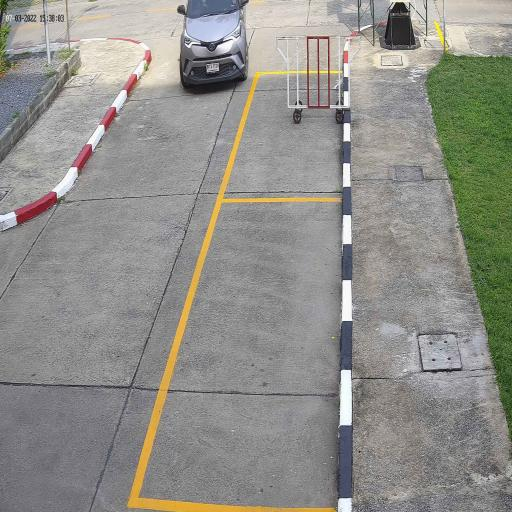car: (178, 0, 249, 90)
